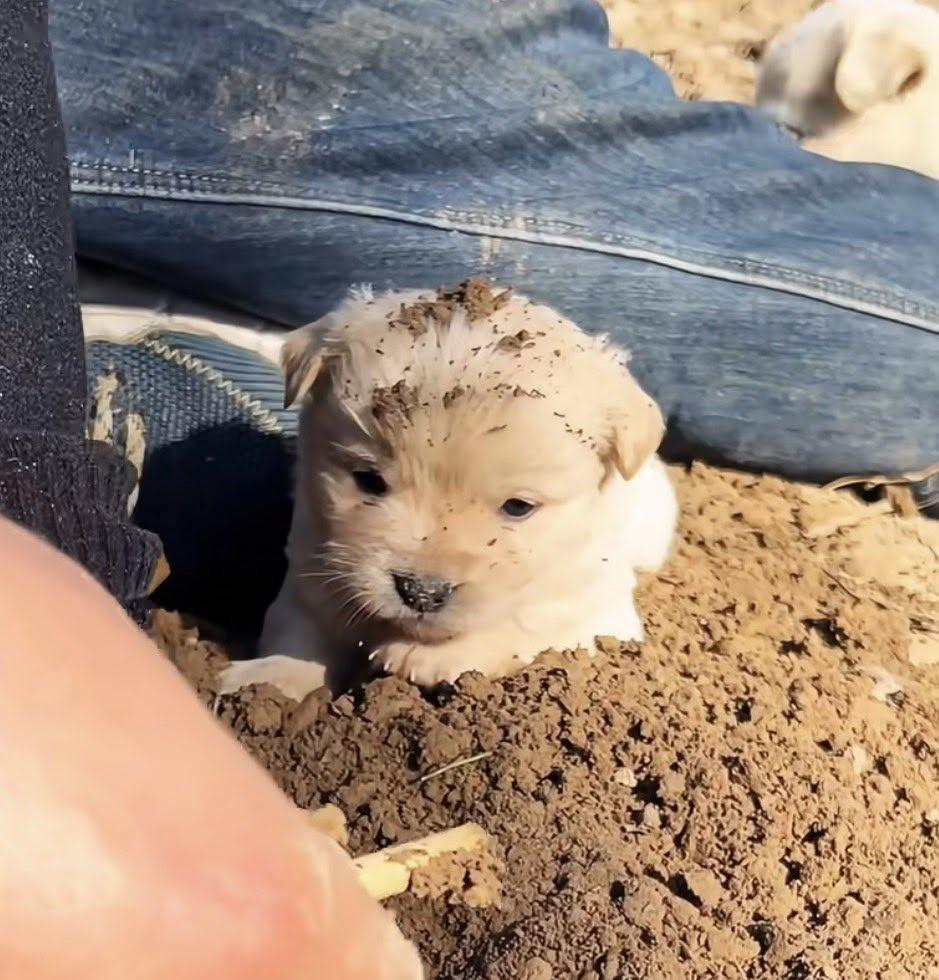puppy-dog: (202, 278, 683, 717), (751, 1, 939, 181)
